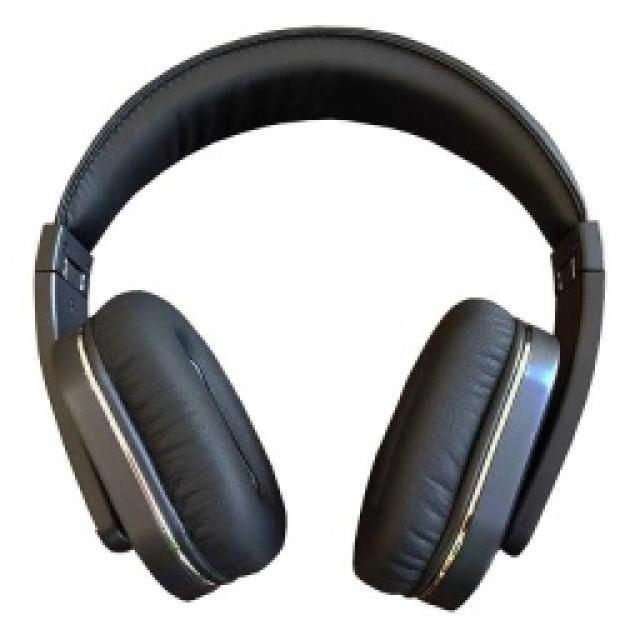headphones: (30, 22, 605, 610)
